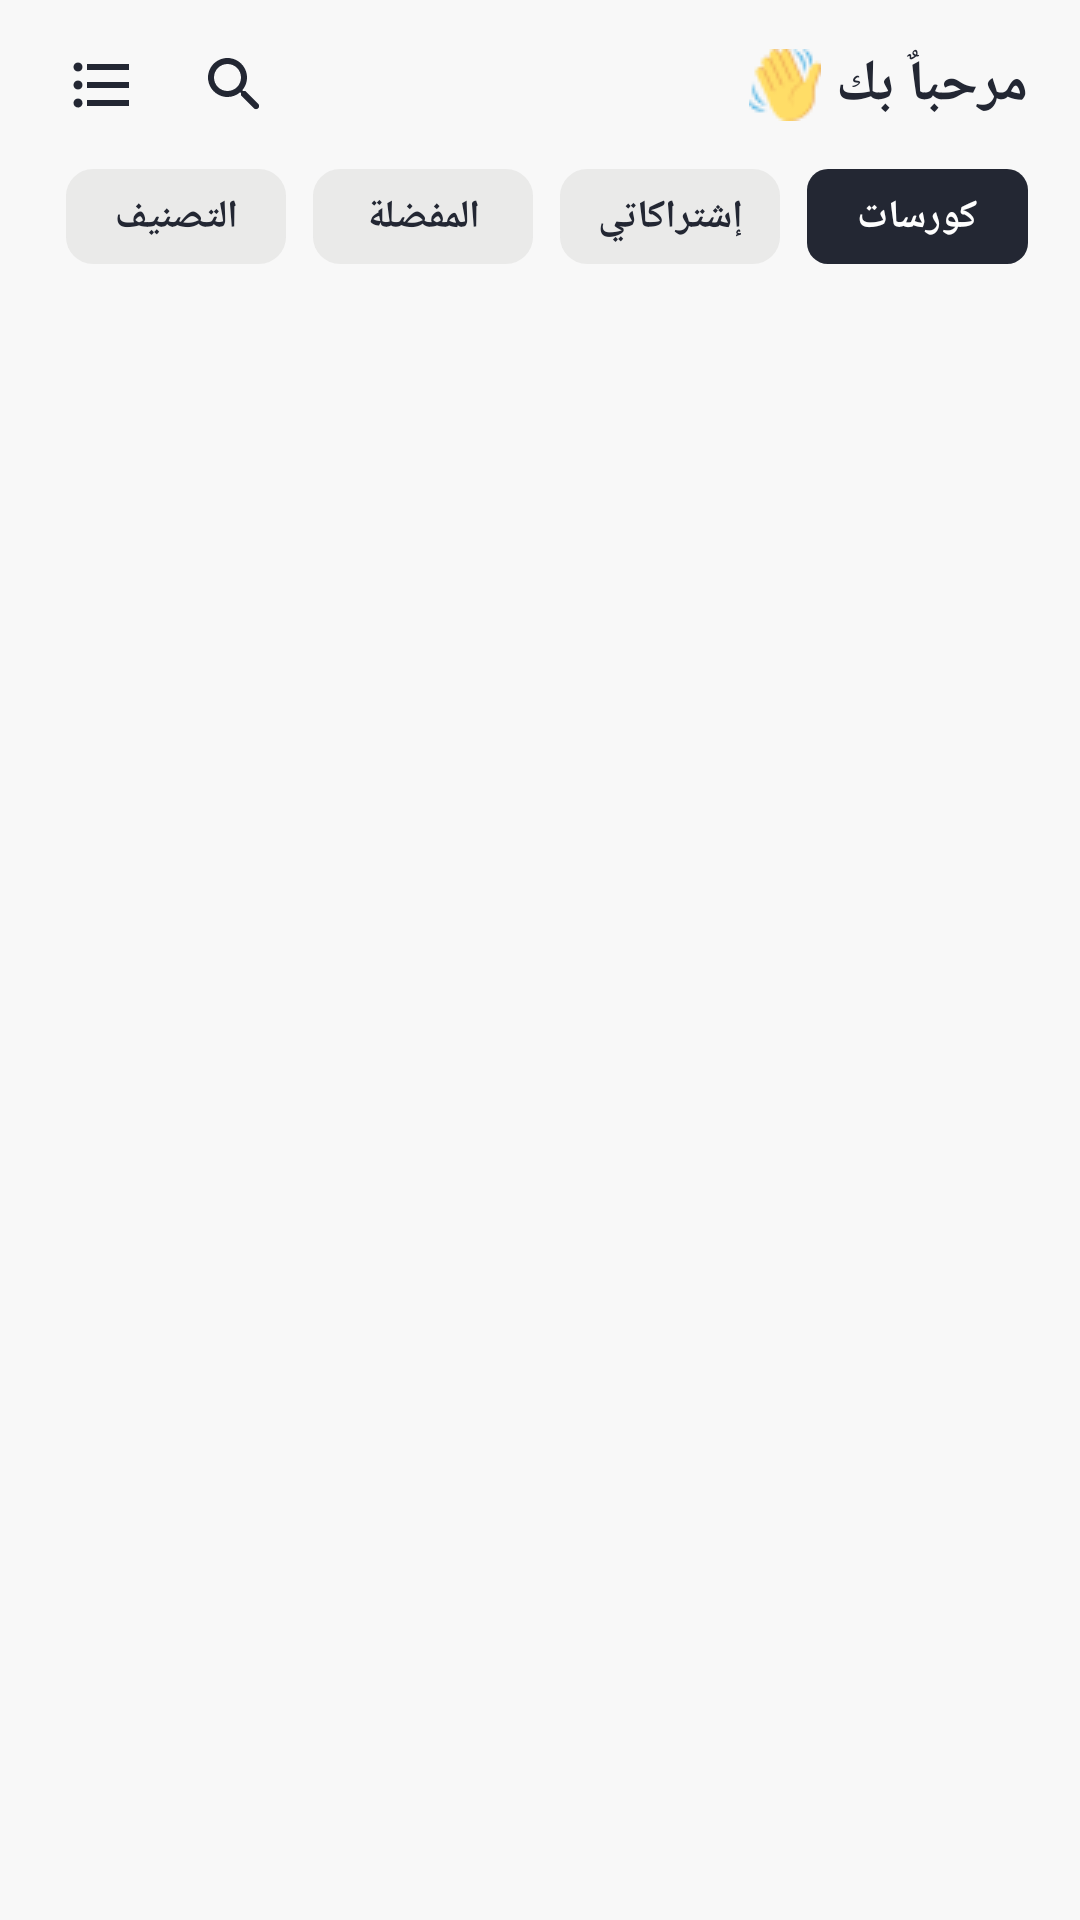

Icons on this 1080 × 1920 Android screen, each with its box as [x1, y1, x2, y2]:
القائمة الرئيسية: [73, 62, 129, 108]
بحث: [208, 58, 259, 109]
